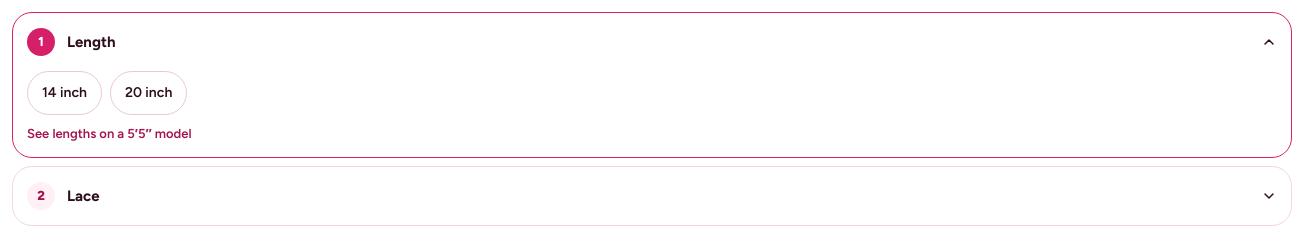
Scenario: OptionPicker › opens the first unanswered step and, a moment after a choice, the next
Click the button "14 inch" at (64, 93), box [27, 71, 102, 115]
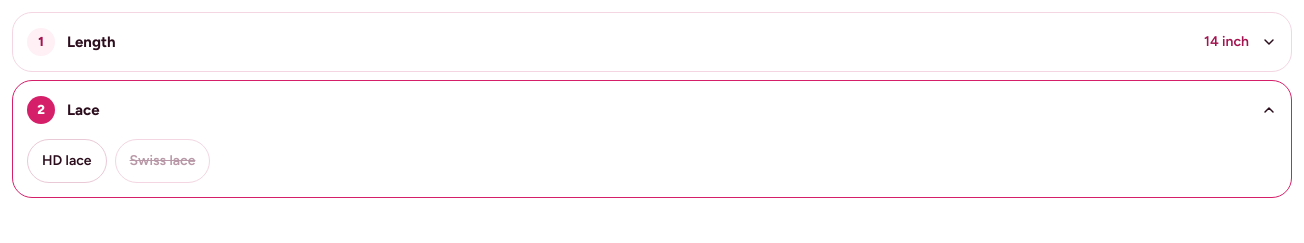
Check: the button "1 Length 14 inch" is shown, box [13, 13, 1291, 71]
Check: the button "2 Lace" is expanded, box [13, 81, 1291, 139]
